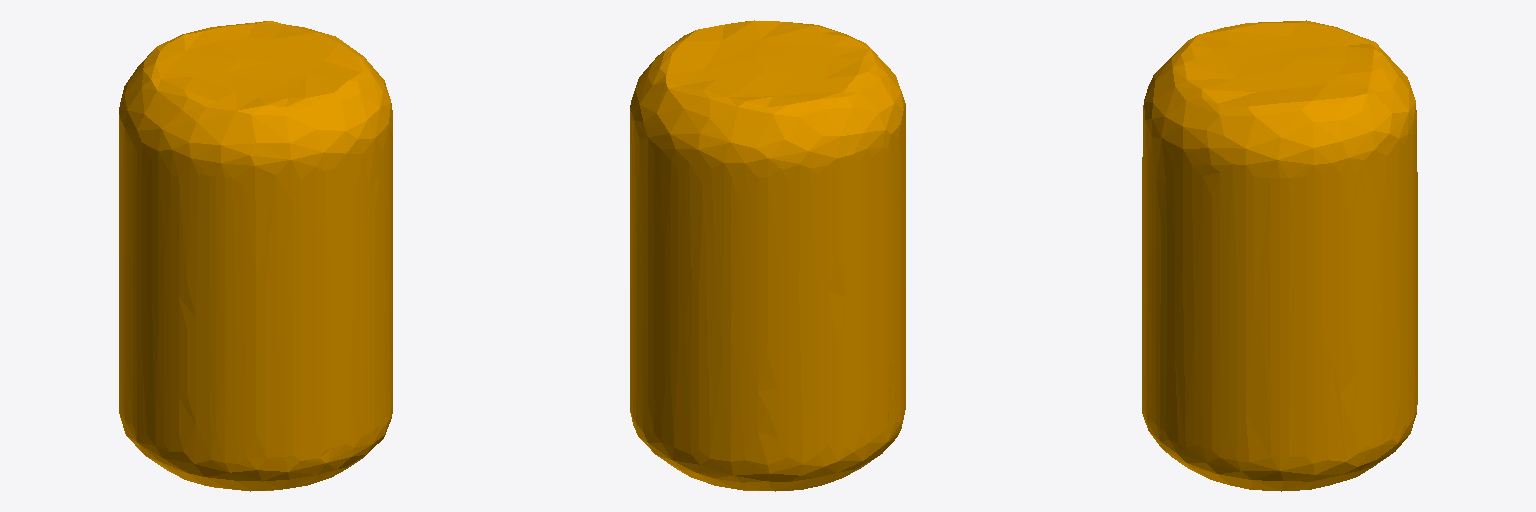
robot.urdf — can_poisson_002:
<?xml version="1.0"?>
<robot name="can_poisson_002">
  <link name="base_link">
    <contact>
      <lateral_friction value="1.0"/>
      <rolling_friction value="0.0"/>
      <contact_cfm value="0.0"/>
      <contact_erp value="1.0"/>
    </contact>
    <inertial>
      <mass value="0.672755232872"/>
      <inertia ixx="1" ixy="0" ixz="0" iyy="1" iyz="0" izz="1"/>
    </inertial>
    <visual>
      <geometry>
        <mesh filename="can_poisson_002_visual.obj"/>
      </geometry>
    </visual>
    <collision>
      <geometry>
        <mesh filename="can_poisson_002_collision.obj"/>
      </geometry>
    </collision>
  </link>
</robot>

--- Facts derived from the render (not from the file) ---
3 views of the same robot in one strip: view 1: azimuth 30°, elevation 25°; view 2: azimuth 150°, elevation 25°; view 3: azimuth 270°, elevation 25° (orthographic).
Model can_poisson_002 with 1 links and 0 joints (none), rooted at base_link, posed every joint at zero.
Links seen in each view (by area): view 1: base_link; view 2: base_link; view 3: base_link.
Boxes of the visible links, x1,y1,x2,y2 form: base_link: (119, 21, 392, 491); base_link: (630, 20, 905, 491); base_link: (1142, 20, 1417, 491).
Size in the robot's own frame: 0.07 by 0.07 by 0.1092 metres.
Meshes: 1 distinct files referenced, 1 mesh visuals loaded (1 OBJ).